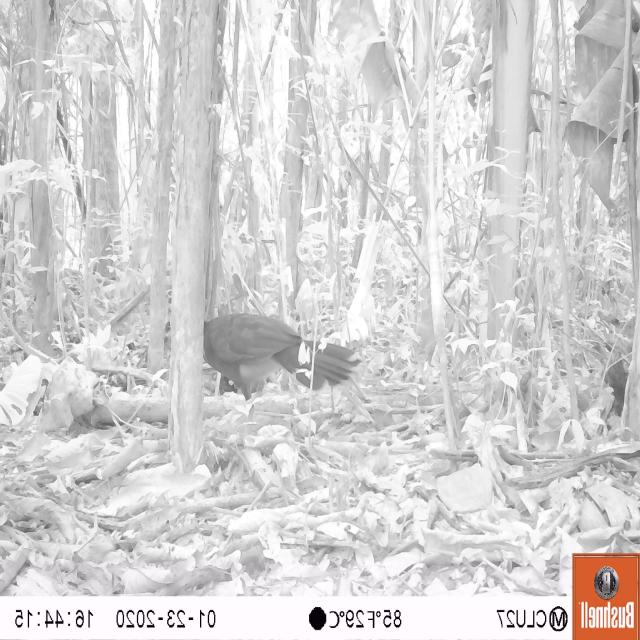Salvins Curassow: (192, 286, 362, 417)
